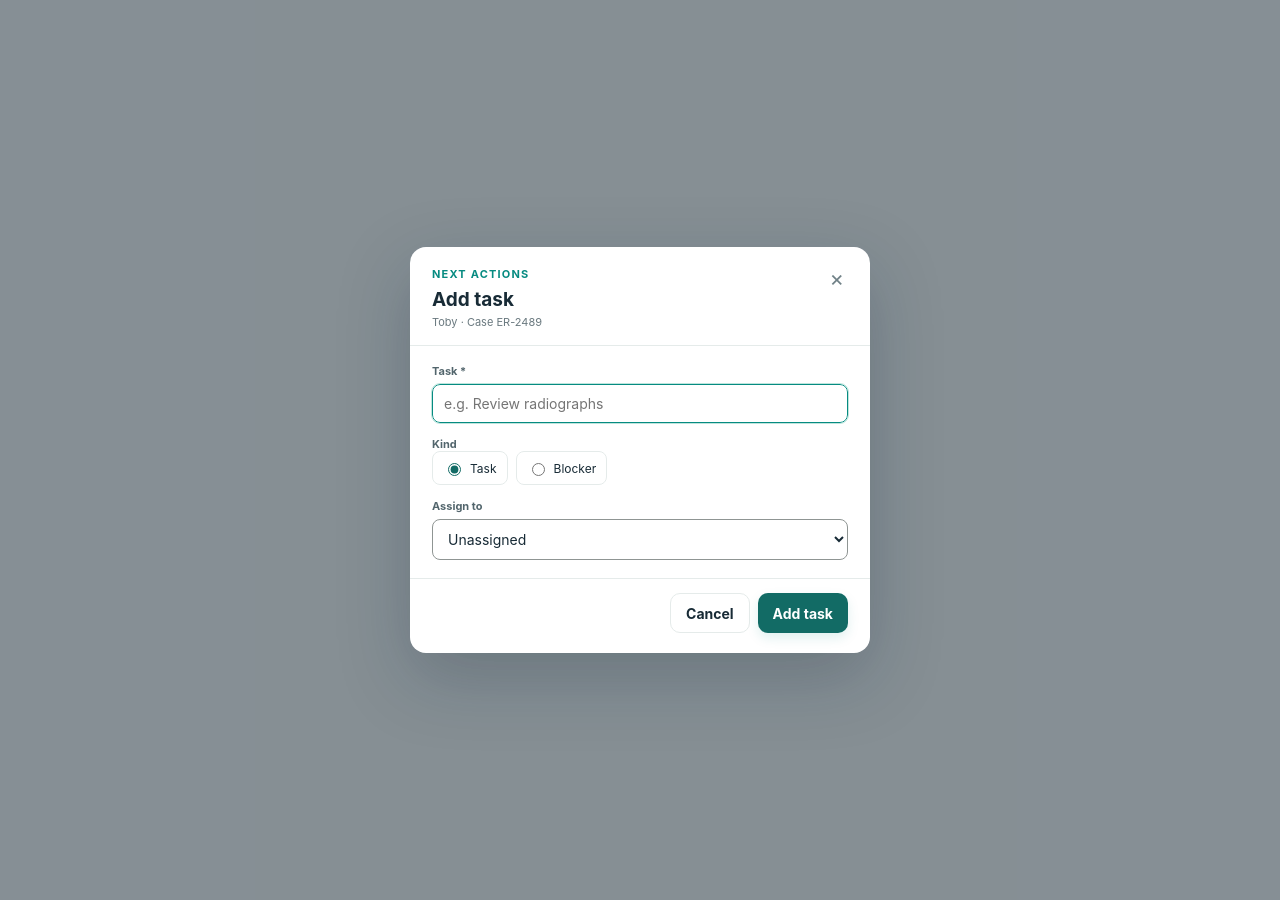
Test: AddTaskDialog › explains a 404 in the dialog
Type "Review radiographs" into the field labelled "Task *".
click(640, 404); type("Review radiographs")  # box [432,384,848,423]
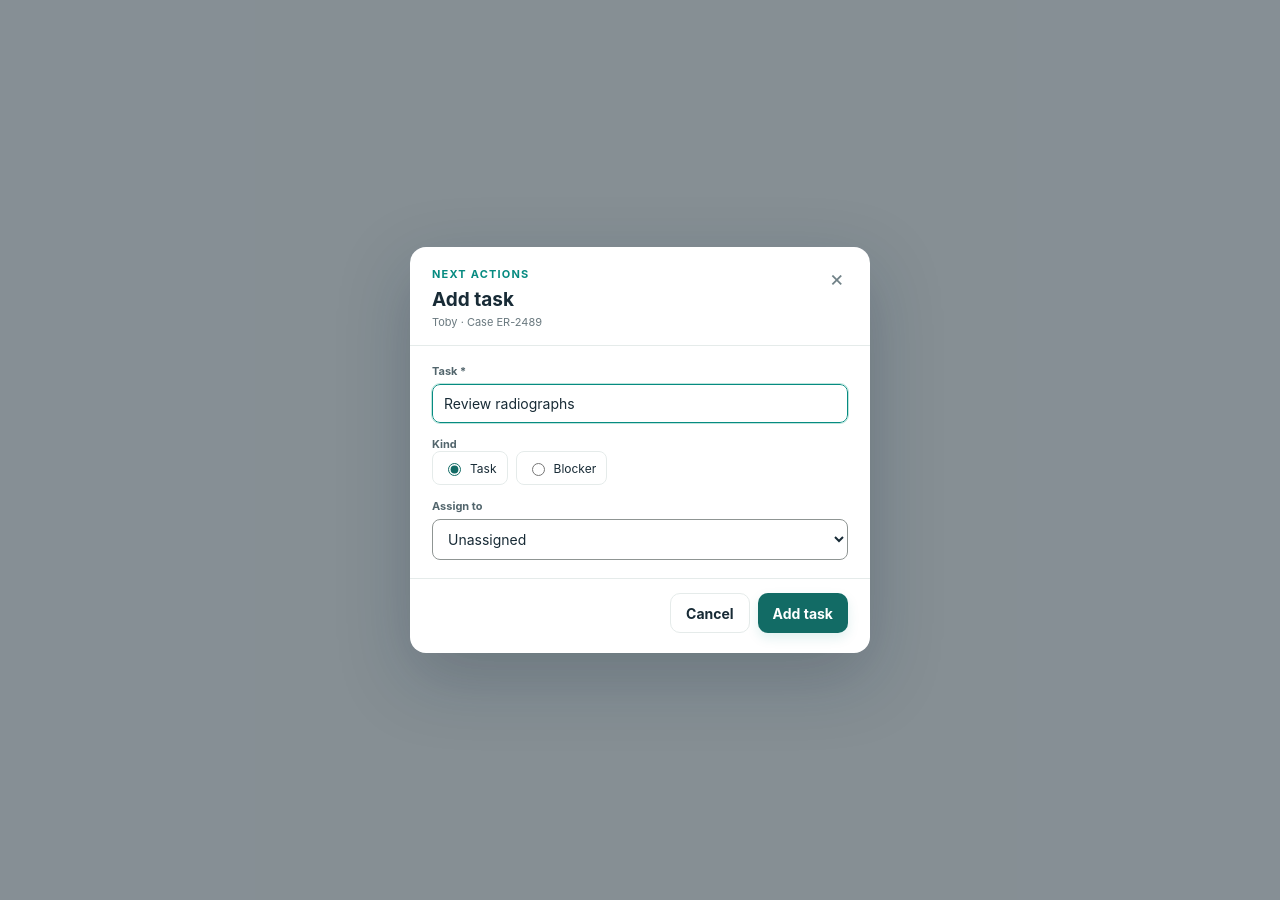
Click the button "Add task".
click(803, 613)  # box [758,593,848,633]
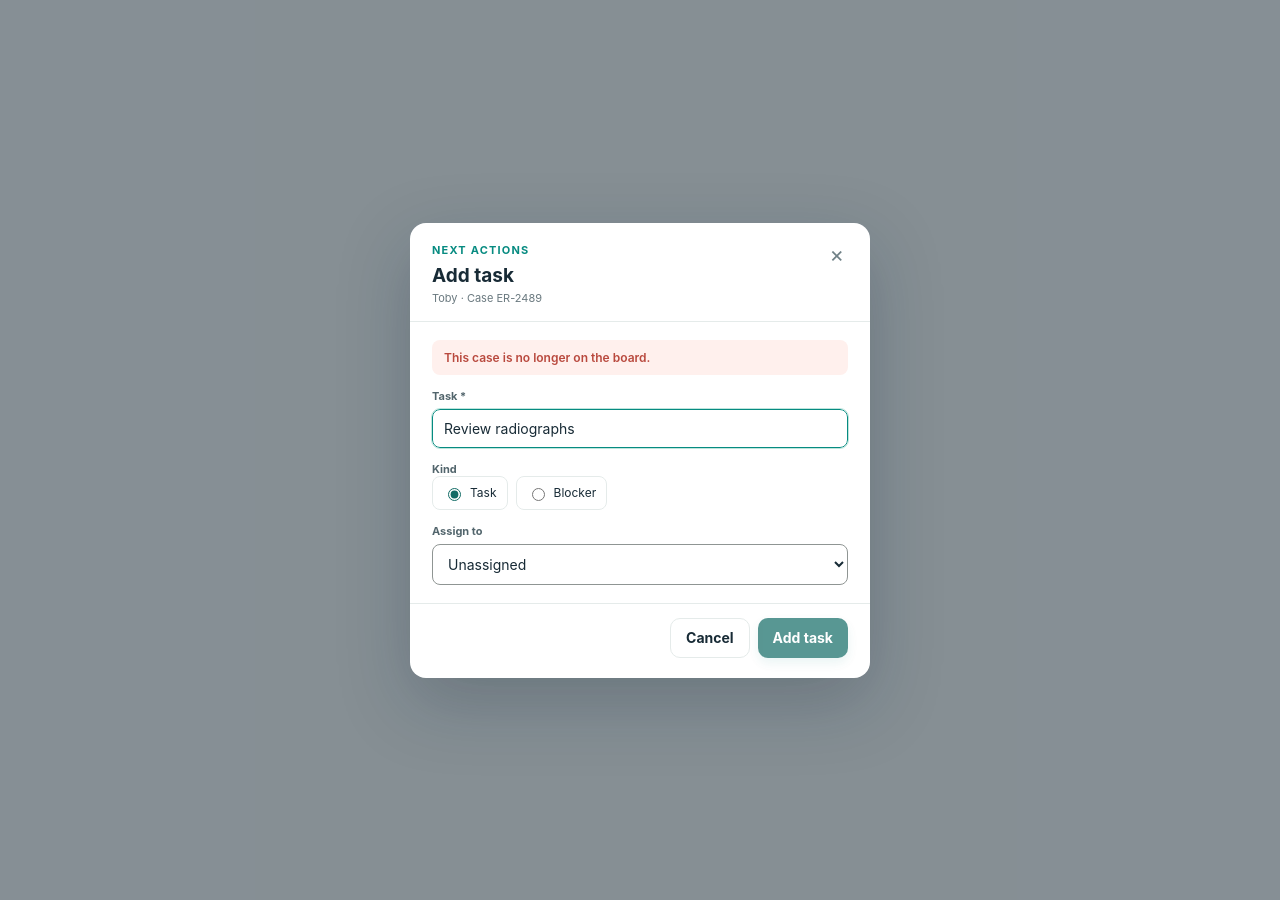
Expected: the dialog is shown, [410,222,870,678]
Expected: the message reads "This case is no longer on the board.", [444,350,650,364]
